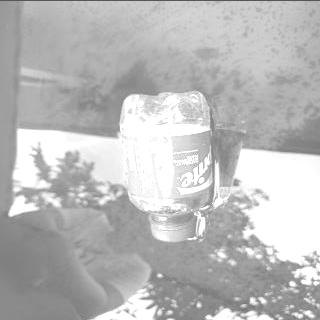bottle: (117, 90, 215, 240)
